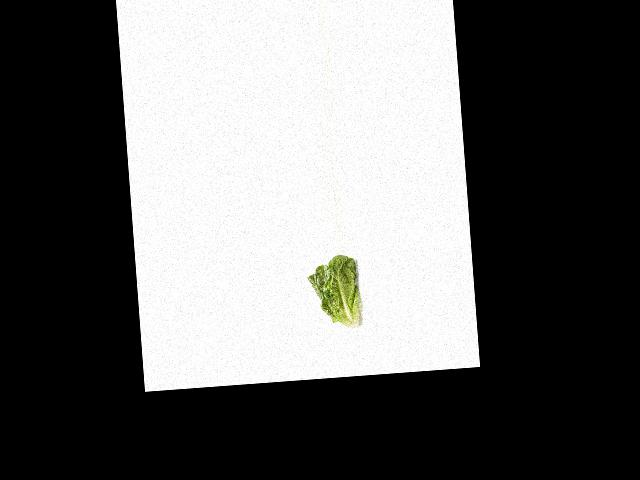lettuce: (305, 253, 373, 334)
